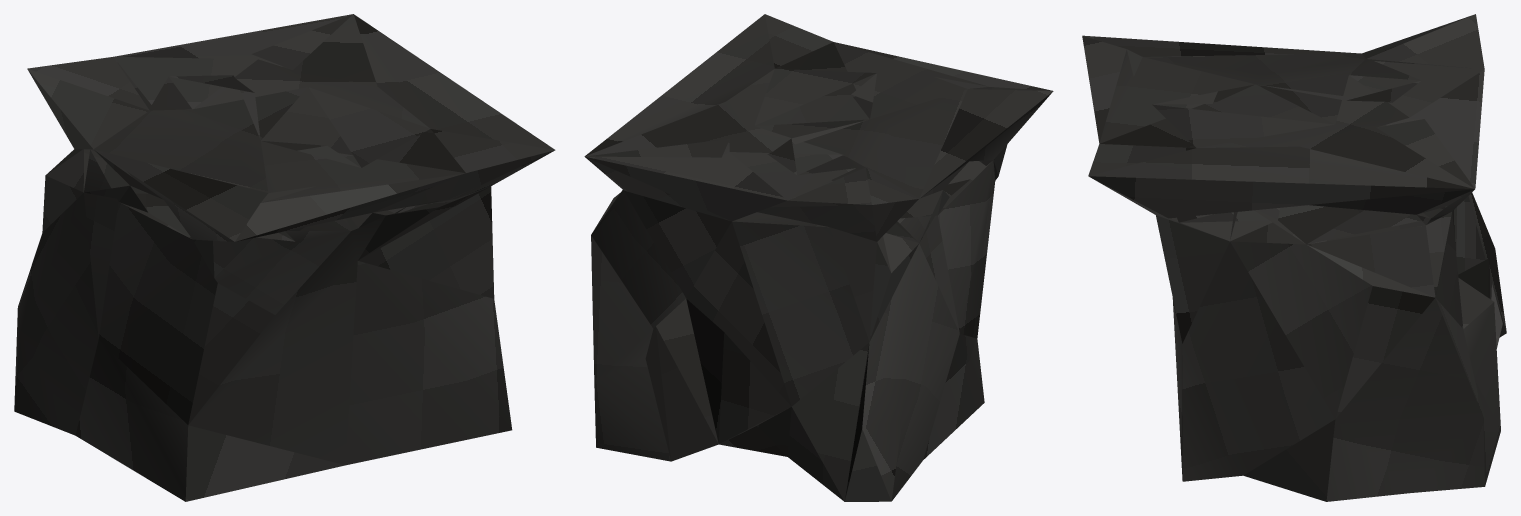
Rendered from stunt-cliff-deck.collision.glb.
The picture shows the model from 3 angles, left to right: view 1: azimuth 30°, elevation 25°; view 2: azimuth 150°, elevation 25°; view 3: azimuth 270°, elevation 25°; orthographic projection. The views are drawn at different scales.
Parts seen in each view (by area): view 1: output_unwrapped; view 2: output_unwrapped; view 3: output_unwrapped.
Part boxes in pixels (box(x1,y1,x2,y2)): output_unwrapped: box(14, 14, 555, 501); output_unwrapped: box(584, 14, 1053, 501); output_unwrapped: box(1082, 14, 1506, 501).
Bounding box in the file's own units: 1.71 × 1.49 × 1.73.
1 material, 1 textured.
